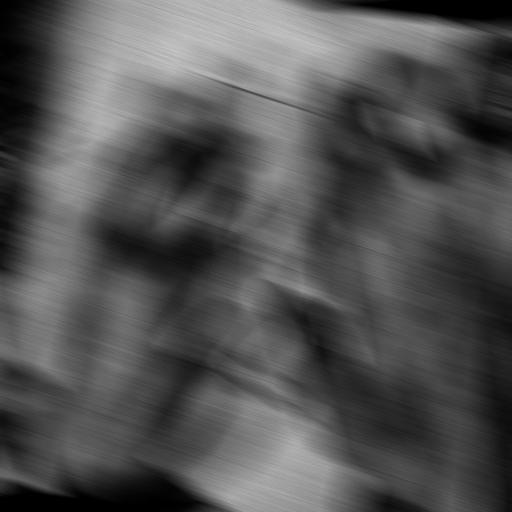bottom_right: (0, 345, 24, 363)
house: (21, 2, 413, 454)
